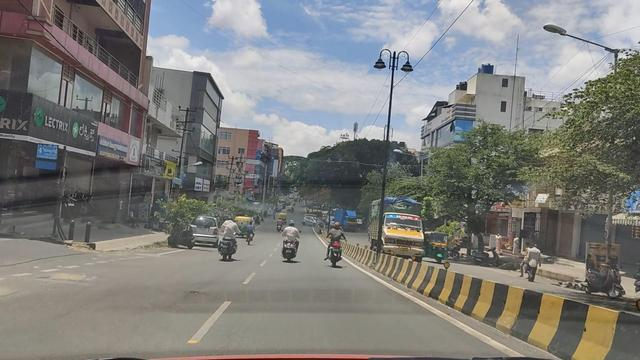LMV: (273, 211, 308, 267), (315, 221, 348, 273), (218, 210, 238, 264)
RoadDamages: (30, 242, 97, 300)
